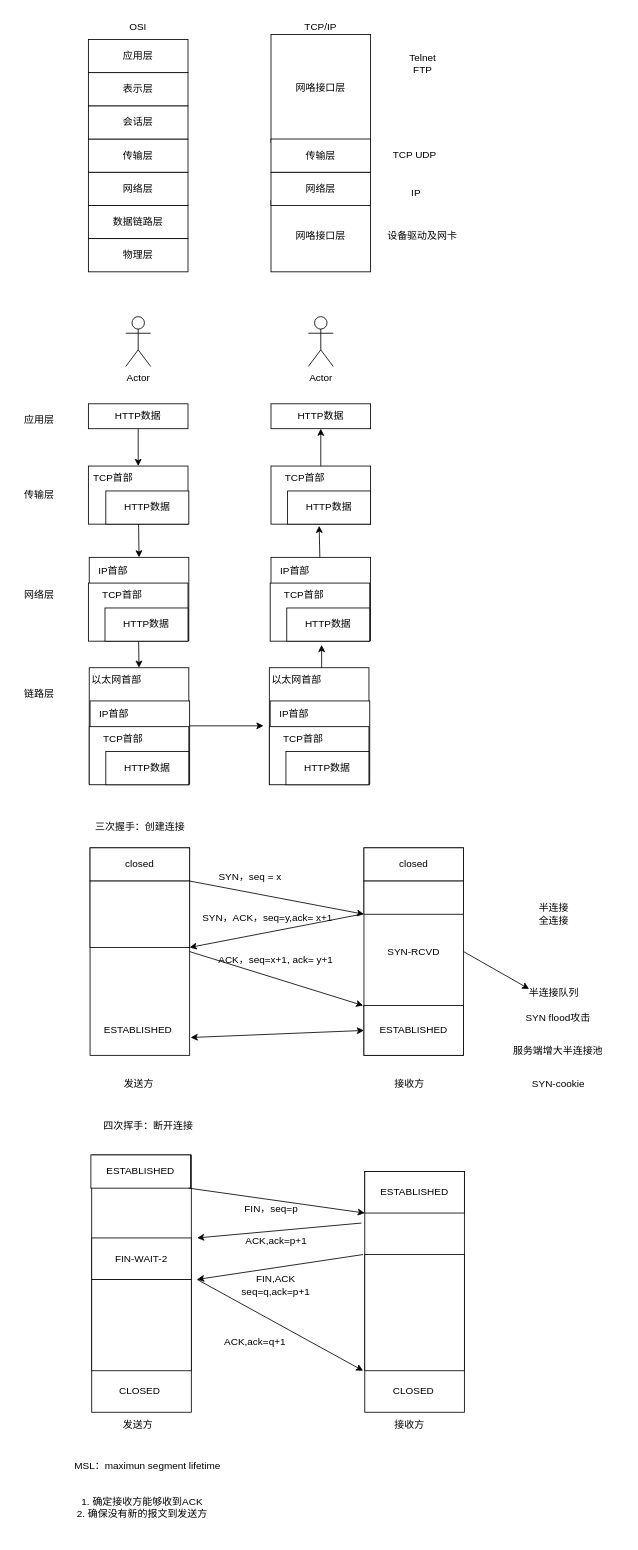
This 638x1550 diagram has some shape labels left out. Each missing label, with the box of its shape:
LAST-ACK: (364, 1254, 464, 1371)
LISTEN: (363, 880, 464, 914)
SYN-SENT: (89, 880, 190, 947)
TIME-WAIT 等待两个MSL: (91, 1279, 191, 1371)
